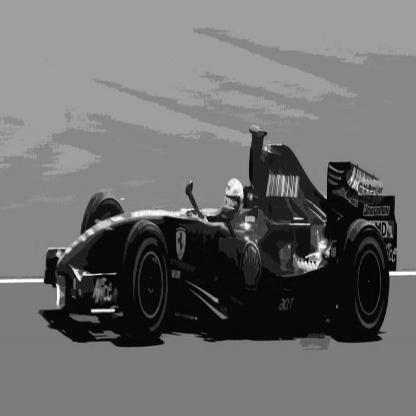car: (25, 95, 413, 364)
